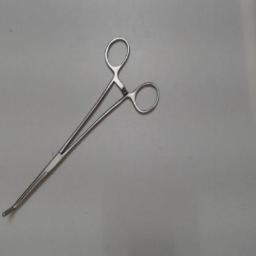Lahey Forceps: (1, 31, 165, 221)
